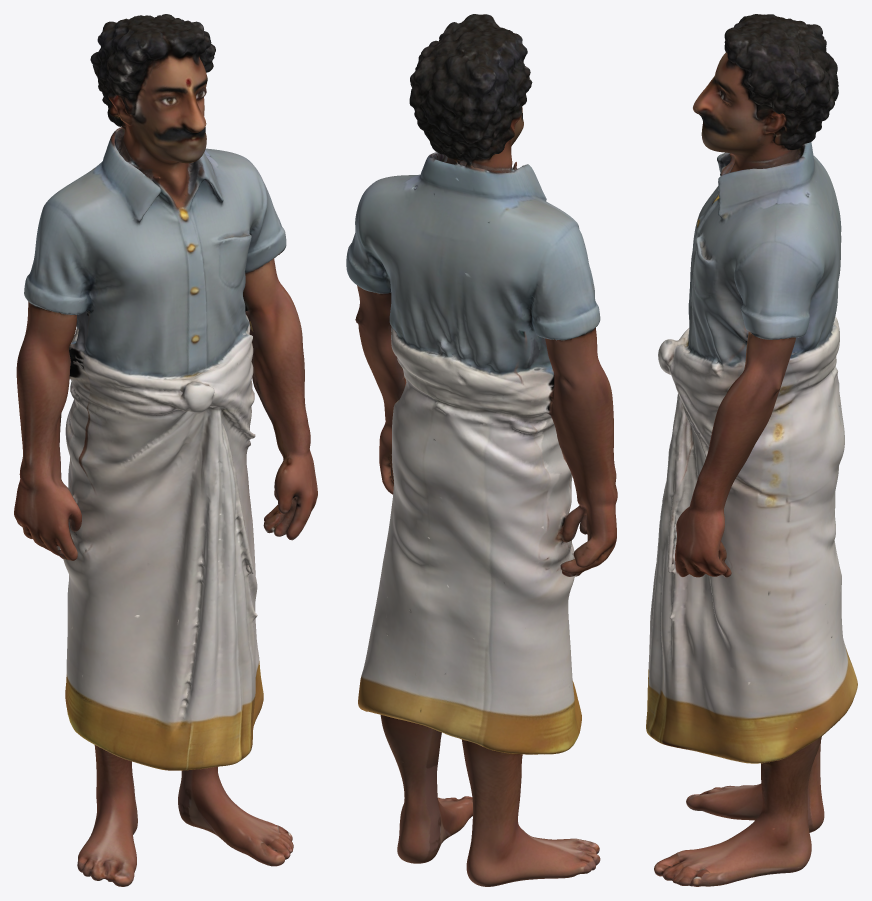
File: south_indian_men_._traditional_fit.glb
3 renders of one model, left to right at view 1: azimuth 30°, elevation 25°; view 2: azimuth 150°, elevation 25°; view 3: azimuth 270°, elevation 25°, orthographic.
Parts seen in each view (by area): view 1: Object_4, Object_6, Object_5; view 2: Object_5, Object_6, Object_4; view 3: Object_5, Object_4, Object_6.
Boxes of the visible parts, left/top/right/bottom form: Object_4: left=61, top=15, right=317, bottom=886; Object_6: left=21, top=18, right=304, bottom=880; Object_5: left=14, top=14, right=304, bottom=826; Object_5: left=346, top=38, right=617, bottom=886; Object_6: left=356, top=14, right=617, bottom=886; Object_4: left=379, top=14, right=599, bottom=882; Object_5: left=705, top=17, right=848, bottom=873; Object_4: left=646, top=14, right=840, bottom=886; Object_6: left=702, top=14, right=857, bottom=885.
Size of the model in its own units: 0.6747 by 2 by 0.468.
1 material, 1 textured.
